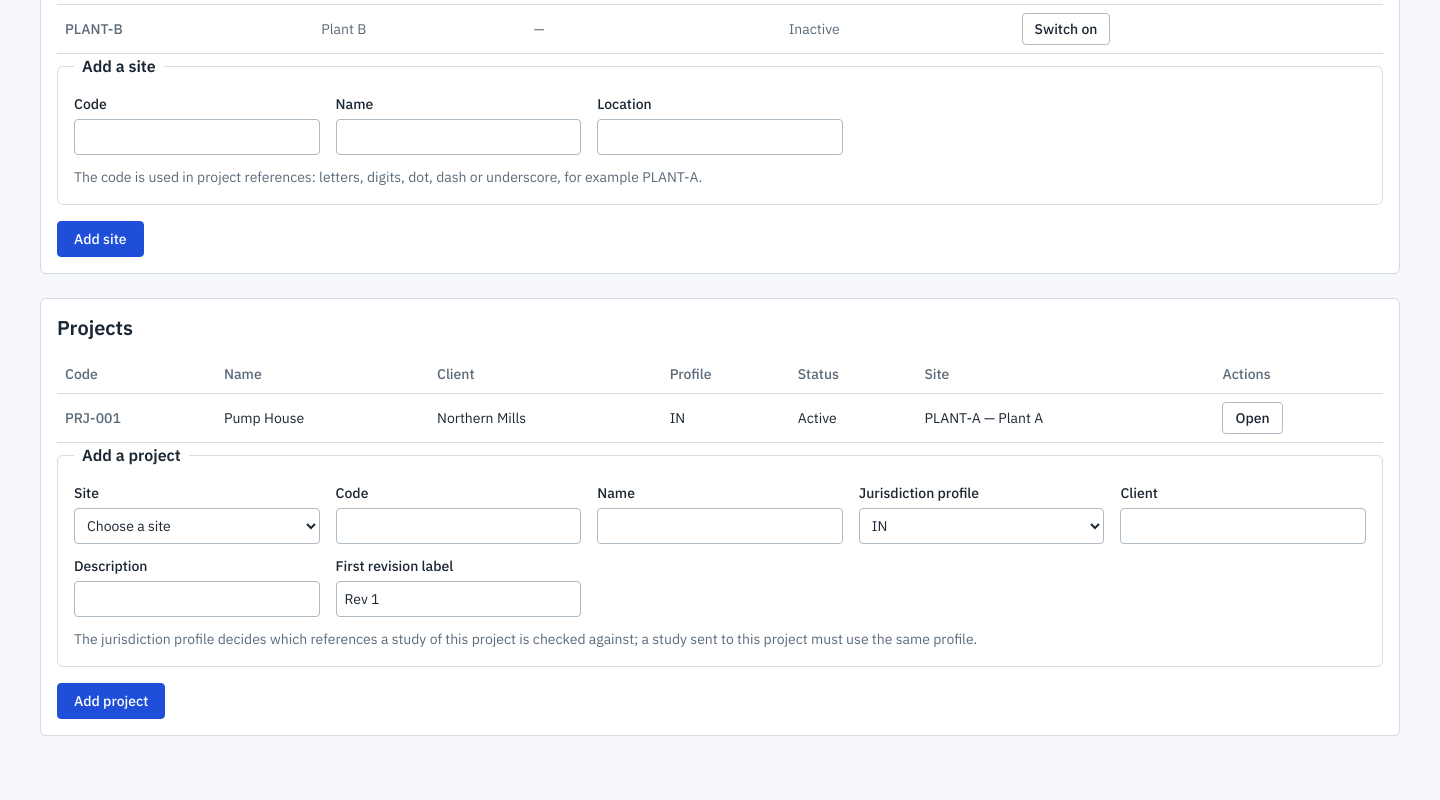
Scenario: ProjectsPage › opens a project and lists its revisions newest first
This screenshot has width=1440, height=800.
(page scrolled)
Click the button "Open" at (1253, 418), box [1222, 402, 1283, 434]
(page scrolled)
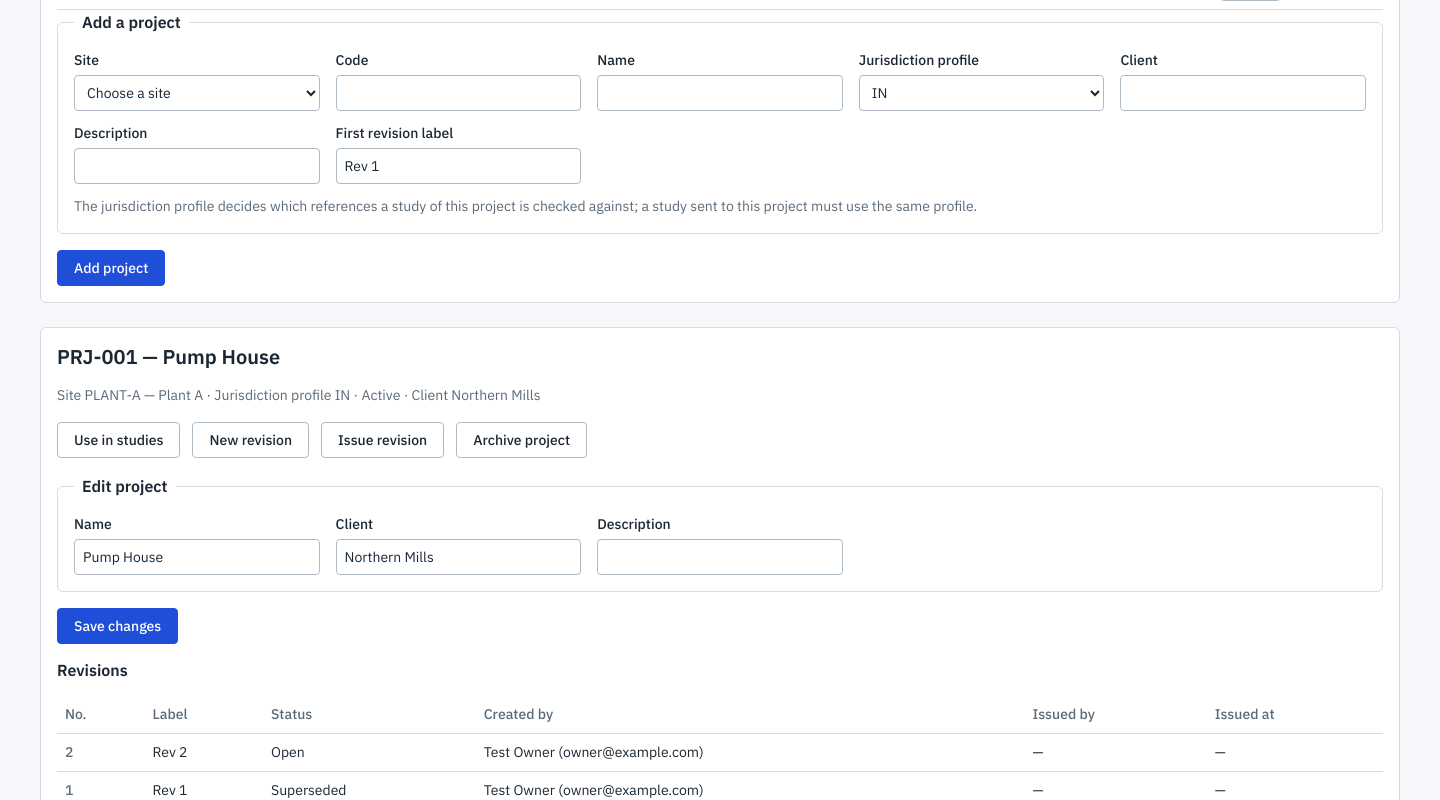
Expected: the heading "PRJ-001 — Pump House" is shown, [57, 343, 280, 370]
Expected: the row "2 Rev 2 Open Test Owner (owner@example.com) — —" is shown, [57, 734, 1383, 772]
Expected: the text "Site PLANT-A — Plant A" is shown, [57, 386, 540, 404]
